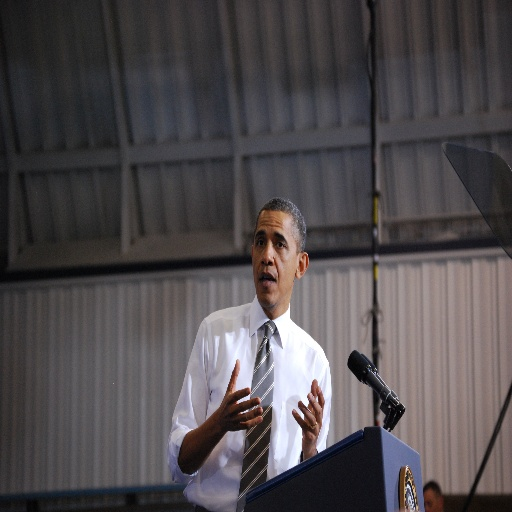hand: (218, 355, 265, 432), (293, 388, 329, 456)
